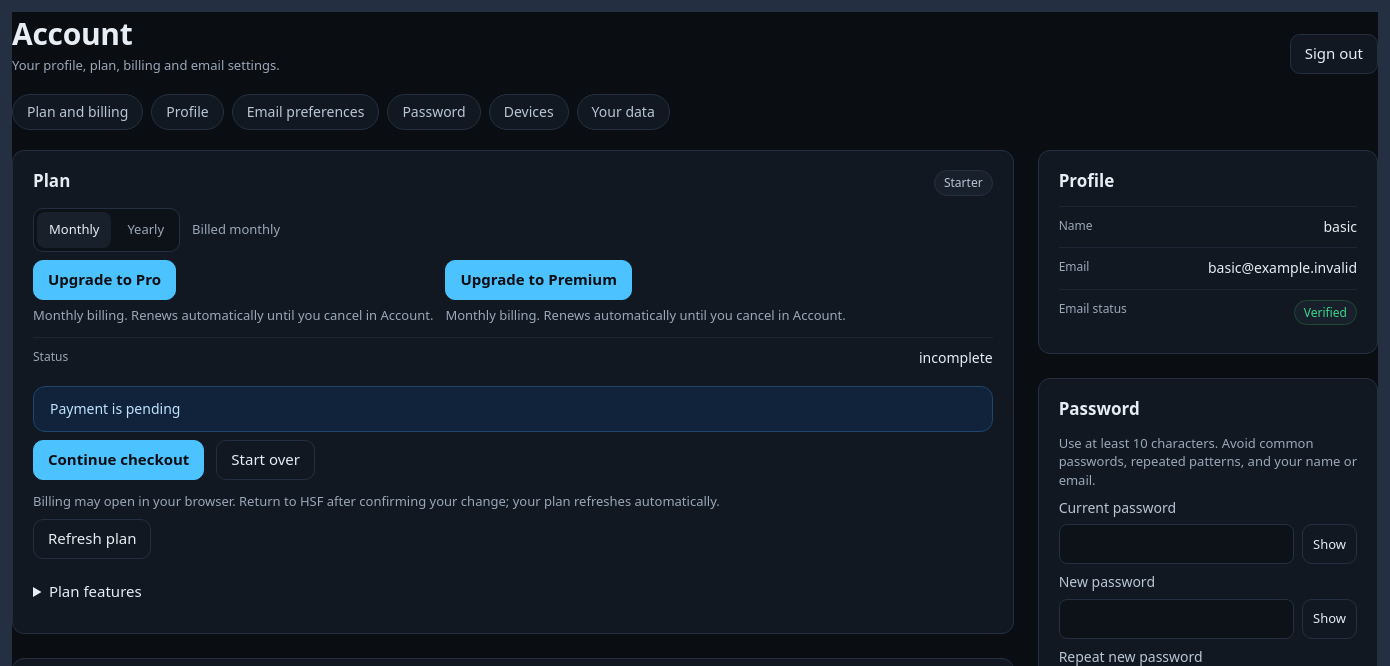
Scenario: Account › explains a pending checkout and lets the user resume or close it
Expected: the text "Payment is pending" is shown, [33,386,993,432]
Expected: the button "Continue checkout" is shown, [33,440,204,480]
Step 1. Click the button "Start over" → (266,460), box [216,440,315,480]
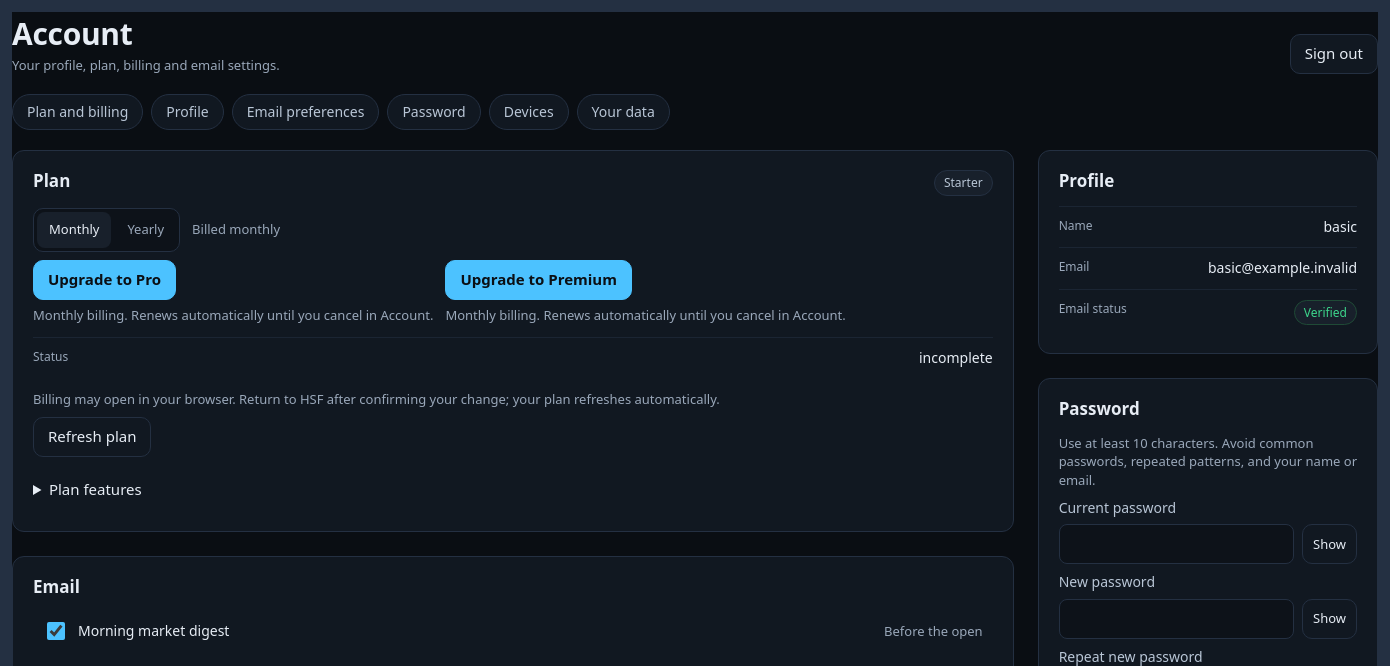
Expected: the button "Continue checkout" is gone
